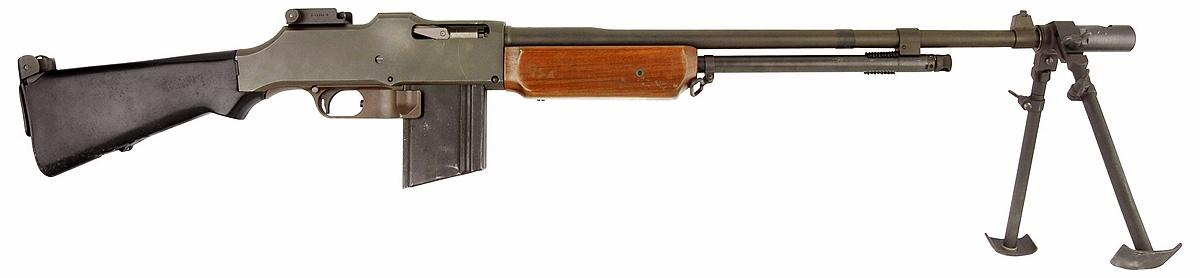blood: (6, 4, 1200, 272)
